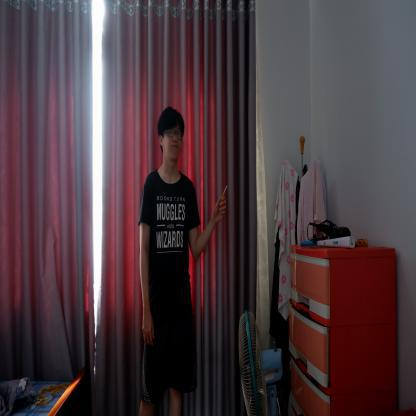cigarette: (222, 184, 228, 198)
person: (137, 106, 201, 415)
